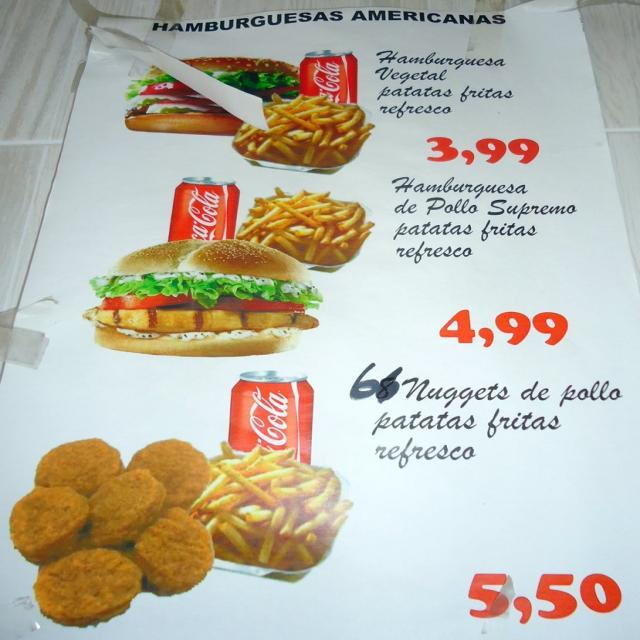Hamburger: (84, 241, 322, 356), (124, 59, 301, 134)
